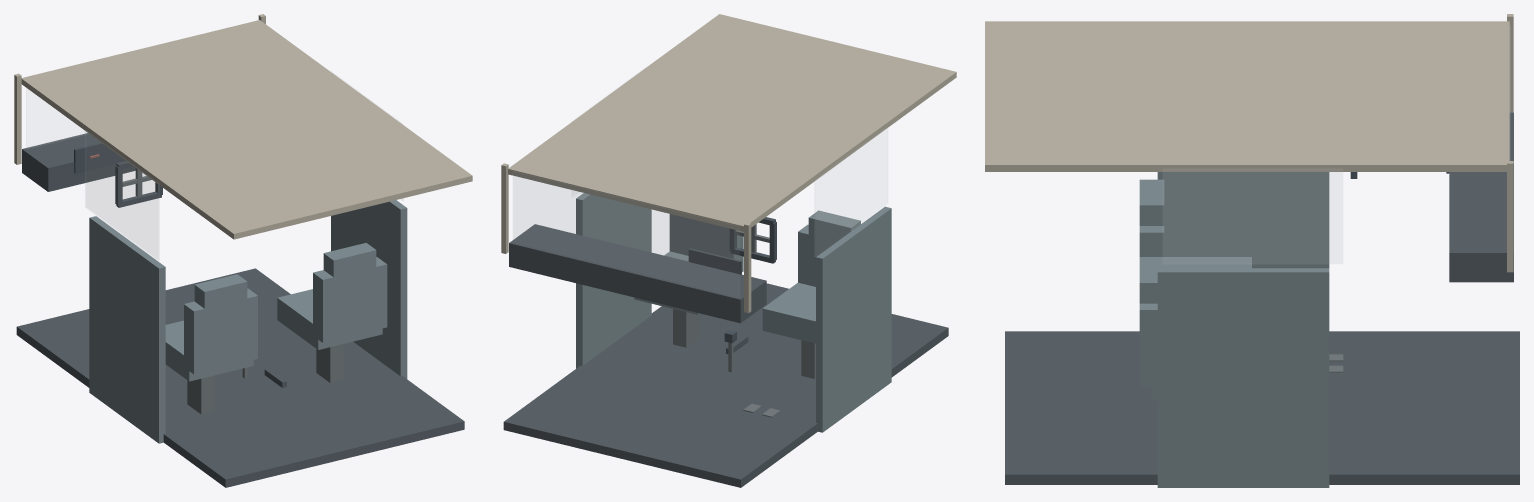
The model's file is minibus_cabin.glb.
3 views of the same model, side by side, from view 1: azimuth 30°, elevation 25°; view 2: azimuth 150°, elevation 25°; view 3: azimuth 270°, elevation 25° (orthographic). The views are drawn at different scales.
Visible parts, largest first — view 1: body, glass_side_left, glass_windshield, steering_wheel; view 2: body, glass_windshield, glass_side_left, steering_wheel; view 3: body, glass_side_right.
Boxes of the visible parts, left/top/right/bottom form: body: left=14, top=14, right=472, bottom=487; glass_side_left: left=85, top=131, right=158, bottom=260; glass_windshield: left=26, top=88, right=84, bottom=148; steering_wheel: left=115, top=161, right=162, bottom=207; body: left=501, top=14, right=956, bottom=487; glass_windshield: left=513, top=176, right=738, bottom=296; glass_side_left: left=815, top=127, right=887, bottom=256; steering_wheel: left=729, top=217, right=776, bottom=263; body: left=985, top=14, right=1519, bottom=487; glass_side_right: left=1163, top=169, right=1342, bottom=263.
Size of the model in its own units: 1.86 by 1.88 by 2.81.
